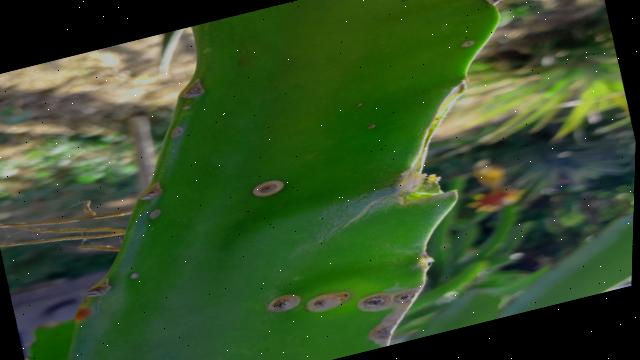stemcanker: (263, 286, 352, 317), (238, 175, 290, 202), (365, 316, 401, 345)
